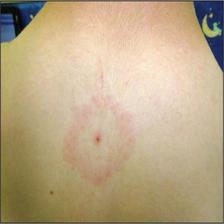Tick: (43, 82, 152, 191)
